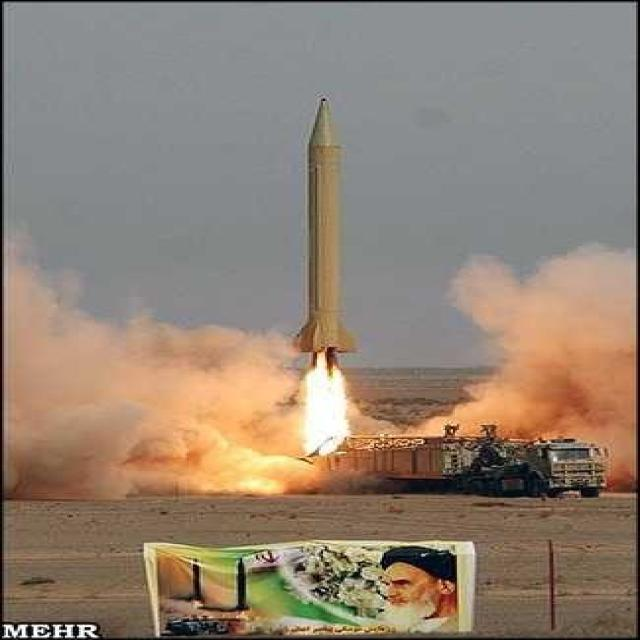missile: (294, 98, 364, 370)
